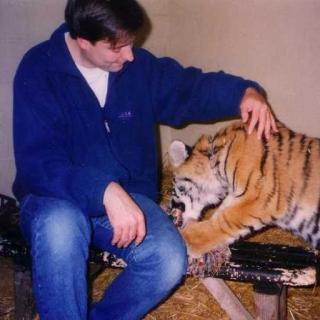Tiger: (168, 120, 320, 272)
